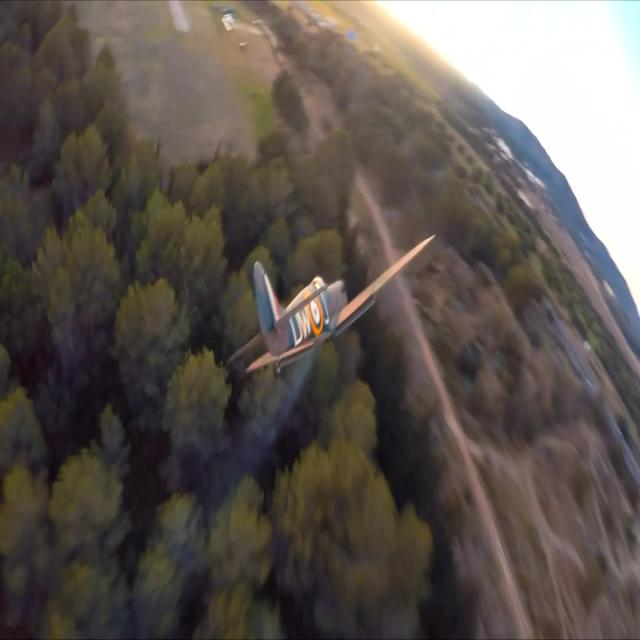iha: (220, 232, 431, 379)
